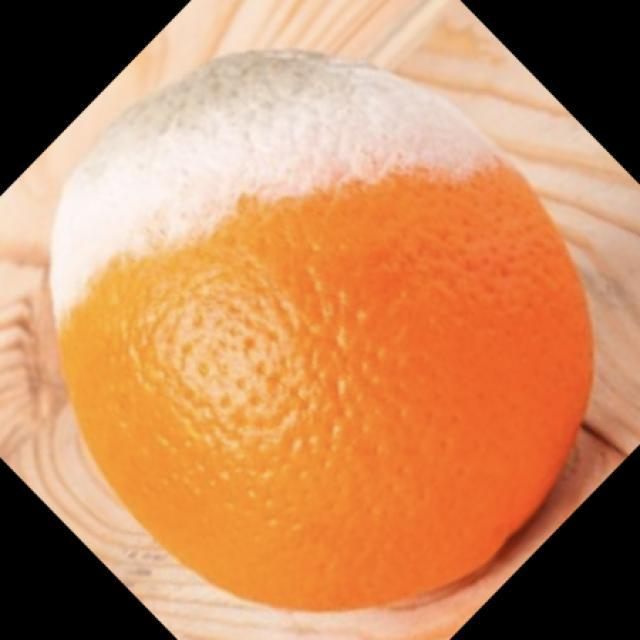sedikit-busuk: (50, 52, 591, 609)
